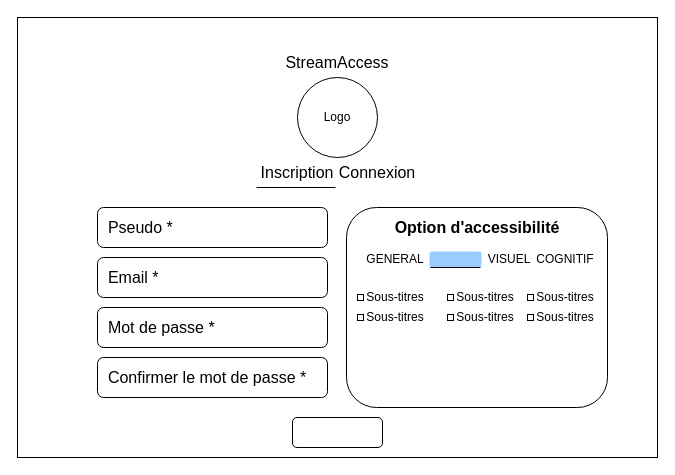
Image size: 675x475. Some labels were removed from this diagram. The shapes that lost their labels are listed below. From the top down, each one's box as (x1, y1, x2, y2) in pixels, then its label:
(429, 251, 481, 267): AUDITIF
(292, 416, 382, 448): S'inscrire
